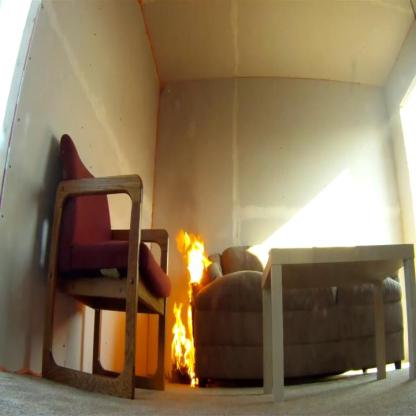fire: (170, 292, 200, 390), (173, 225, 214, 287)
